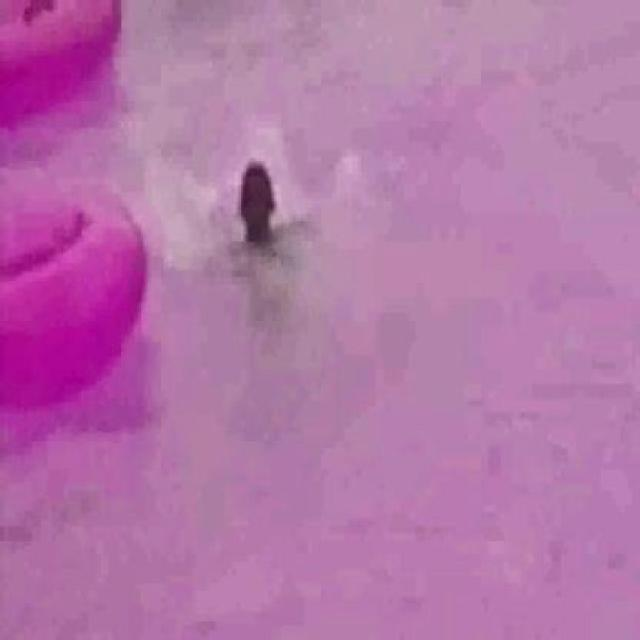drowning: (160, 149, 360, 296)
